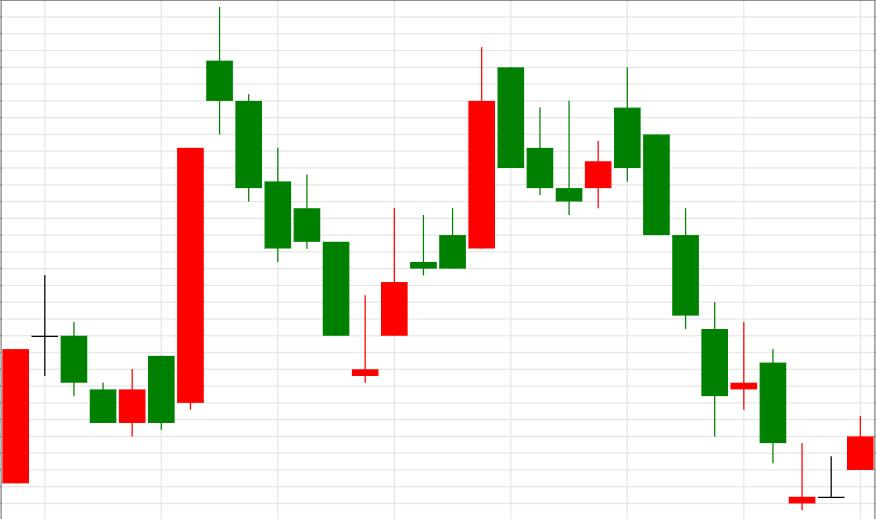three_black_crows_fall: (119, 5, 291, 437), (555, 66, 698, 328)
